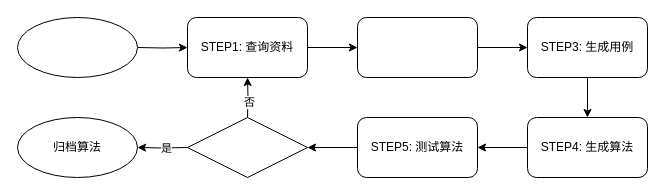
Image size: 665x195. Some labels were removed from this diagram. The shapes that lost their labels are listed below. From the top down, each one's box as (x1, y1, x2, y2) in pixels, then its label:
(16, 16, 138, 78): 输入问题
(356, 16, 478, 78): STEP2: 建模问题
(186, 116, 308, 178): 测试通过达成目标
